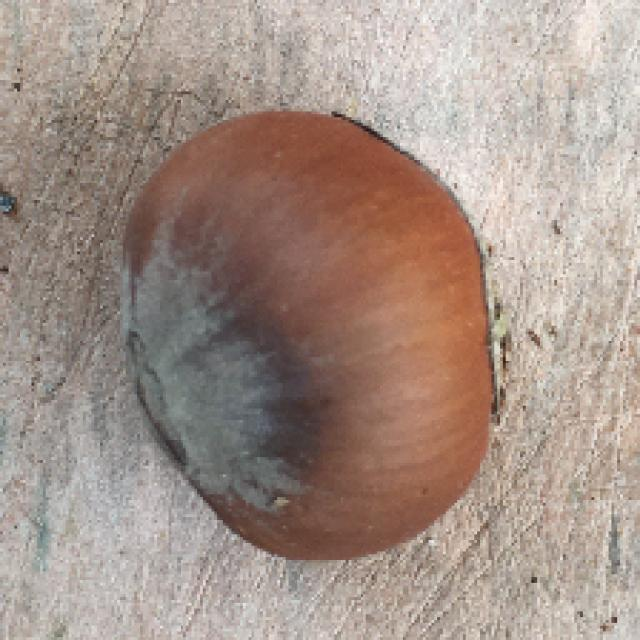damagedHazelnut: (109, 98, 525, 584)
